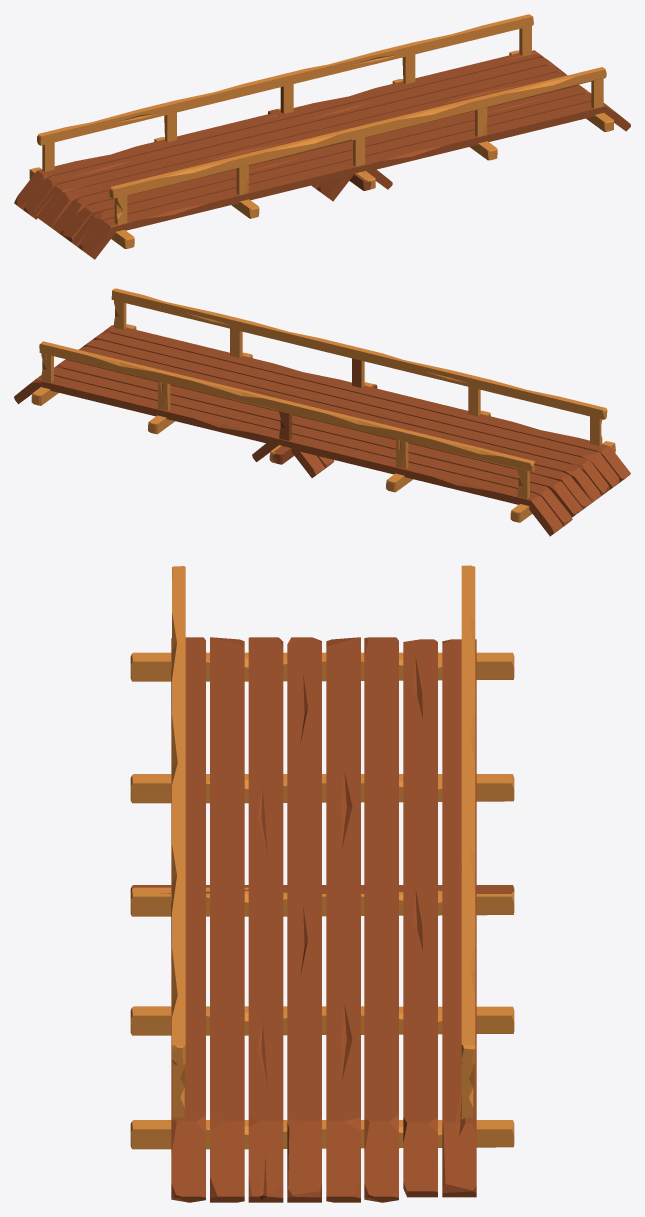
File: Bridge02.fbx
The picture shows the model from 3 angles, top to bottom: view 1: azimuth 30°, elevation 25°; view 2: azimuth 150°, elevation 25°; view 3: azimuth 270°, elevation 25°; orthographic projection. The views are drawn at different scales.
Parts seen in each view (by area): view 1: pasted__pasted__Bridge_2; view 2: pasted__pasted__Bridge_2; view 3: pasted__pasted__Bridge_2.
Boxes of the visible parts, bbox=[...] form: pasted__pasted__Bridge_2: bbox=[14, 14, 630, 259]; pasted__pasted__Bridge_2: bbox=[14, 288, 630, 536]; pasted__pasted__Bridge_2: bbox=[130, 565, 514, 1202].
Size of the model in its own units: 770 by 92.14 by 236.
